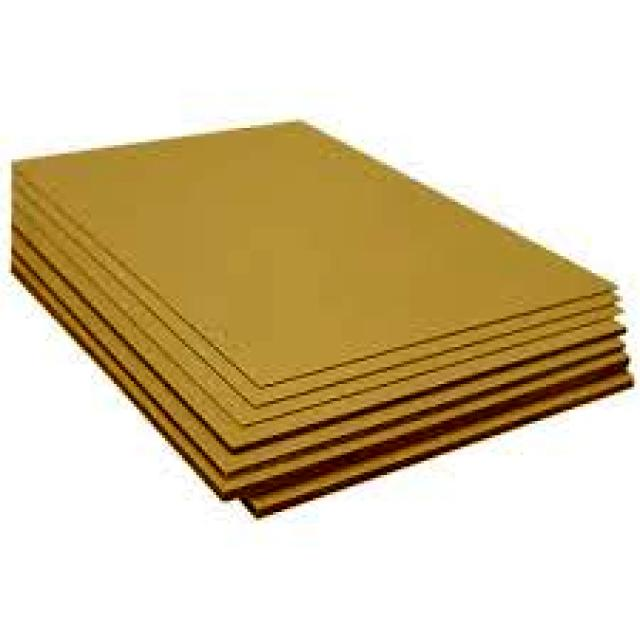Cardboard: (7, 115, 637, 522)
